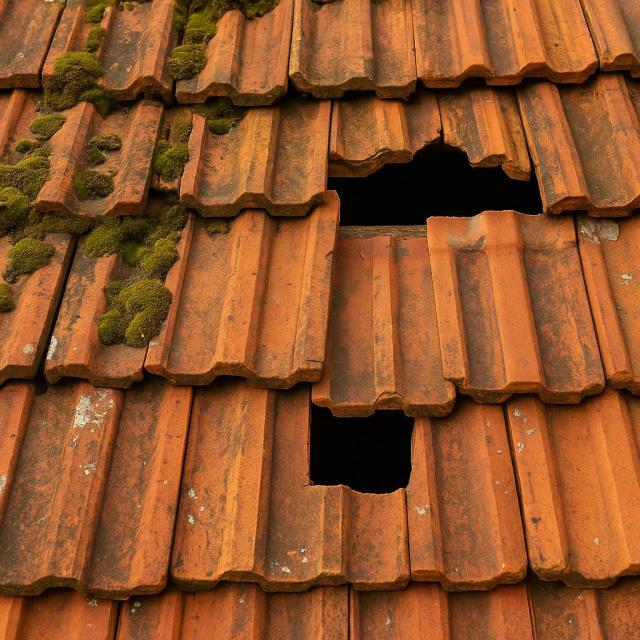trou: (310, 135, 550, 240), (295, 374, 420, 501)
